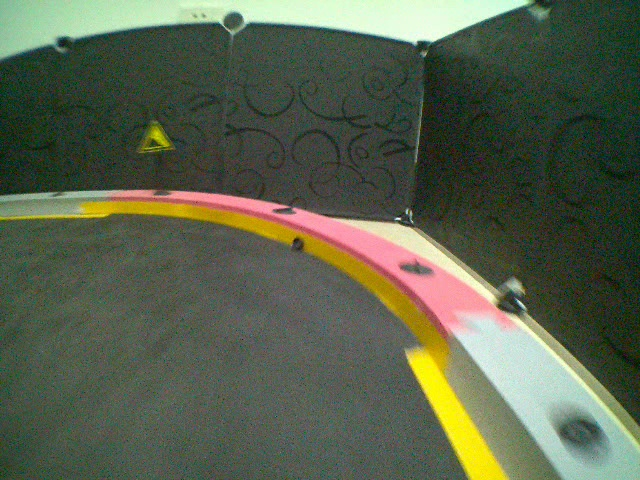fast: (135, 119, 176, 155)
